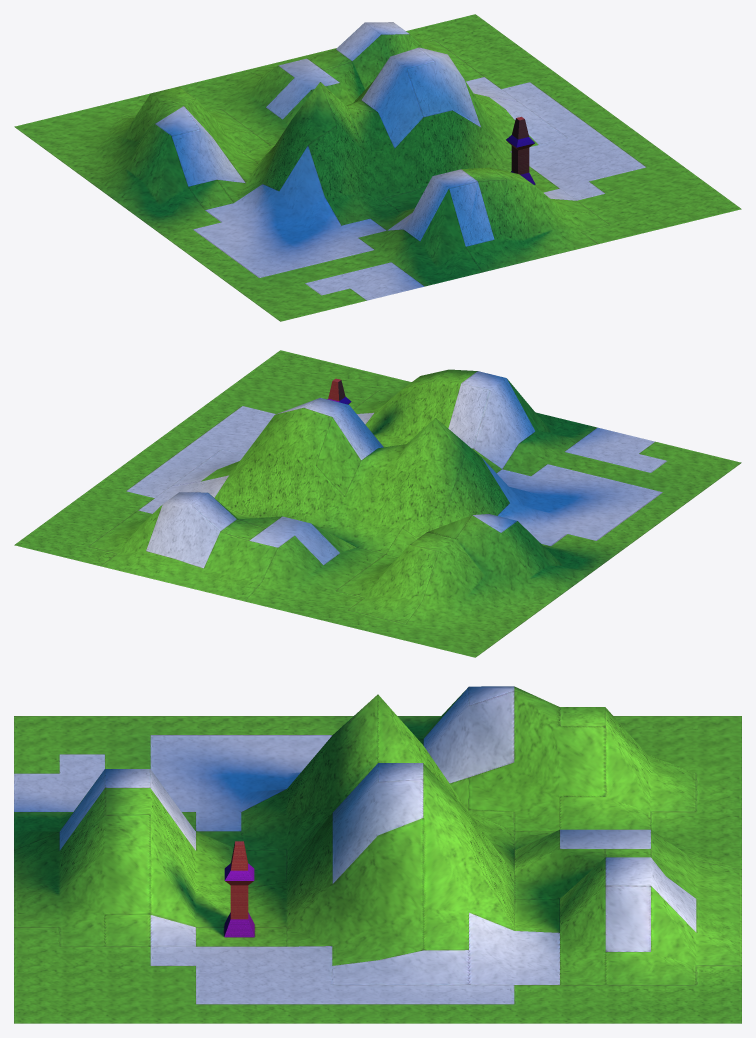
File: montmap.glb
3 renders of one model, top to bottom at view 1: azimuth 30°, elevation 25°; view 2: azimuth 150°, elevation 25°; view 3: azimuth 270°, elevation 25°, orthographic. The views are drawn at different scales.
Parts seen in each view (by area): view 1: Plane_primitive0, Plane_primitive1, Plane.001_primitive0; view 2: Plane_primitive0, Plane_primitive1; view 3: Plane_primitive0, Plane_primitive1, Plane.001_primitive0, Plane.001_primitive1.
Boxes of the visible parts, <box> form: Plane_primitive0: <box>14,14,741,321</box>; Plane_primitive1: <box>155,22,646,300</box>; Plane.001_primitive0: <box>506,116,534,174</box>; Plane_primitive0: <box>14,350,741,657</box>; Plane_primitive1: <box>126,371,666,568</box>; Plane_primitive0: <box>14,686,741,1023</box>; Plane_primitive1: <box>14,686,696,1004</box>; Plane.001_primitive0: <box>225,841,253,919</box>; Plane.001_primitive1: <box>224,863,254,937</box>.
Bounding box in the file's own units: 14.73 × 3.11 × 14.73.
Materials: 4 (4 with a texture image).
